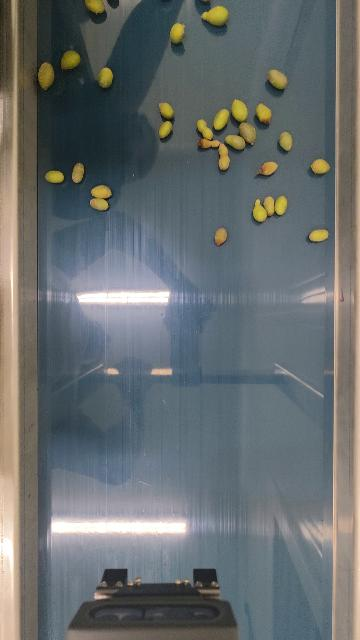Baby Potato: (201, 4, 230, 27), (37, 61, 56, 91), (238, 121, 258, 145), (60, 49, 81, 71), (231, 98, 250, 122), (268, 68, 288, 90), (212, 108, 230, 131), (217, 142, 231, 171), (196, 118, 214, 140), (224, 134, 247, 151), (169, 21, 186, 44), (97, 66, 113, 89), (256, 102, 272, 124), (70, 162, 86, 184), (90, 184, 112, 200), (252, 198, 266, 223), (157, 101, 175, 120), (89, 196, 110, 212), (311, 158, 330, 175), (84, 0, 107, 14), (262, 195, 276, 218), (259, 160, 279, 176), (278, 131, 294, 151), (44, 169, 65, 184), (309, 228, 330, 243), (158, 119, 173, 139), (274, 195, 288, 215), (198, 137, 221, 149), (214, 227, 228, 246), (107, 1, 119, 9)
